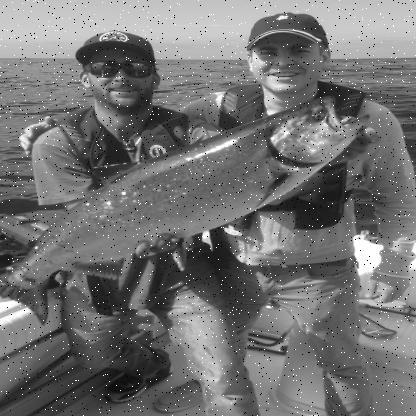fish: (0, 94, 371, 323)
